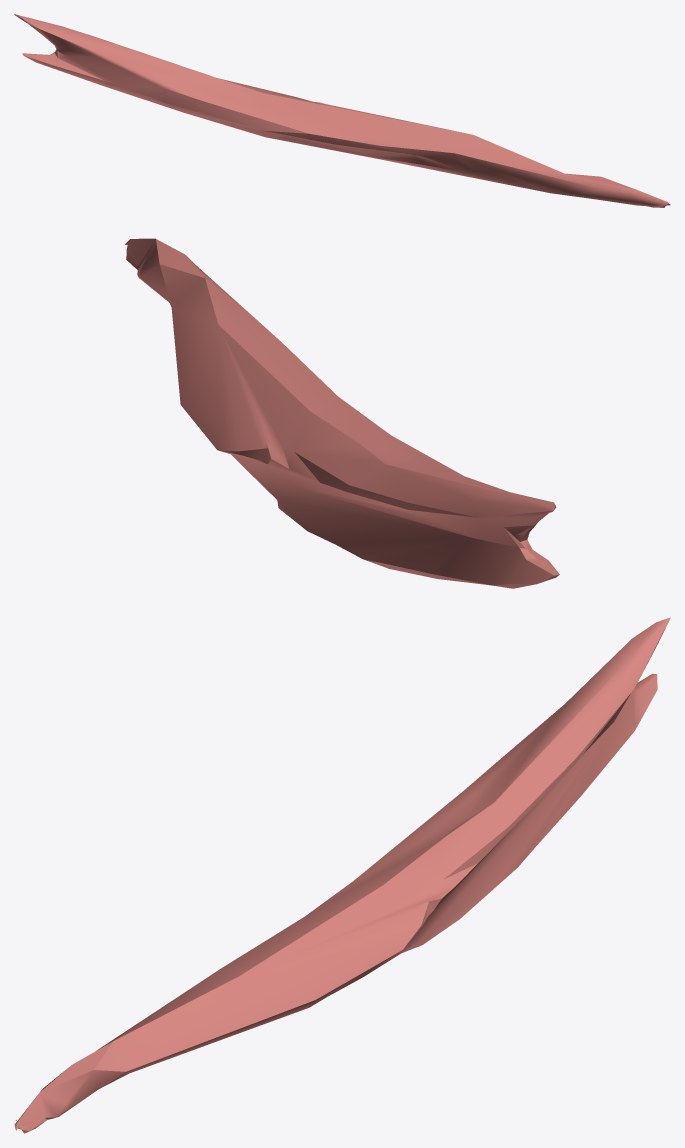
The model's file is fma37484_fj1389m.glb.
3 renders of one model, top to bottom at view 1: azimuth 30°, elevation 25°; view 2: azimuth 150°, elevation 25°; view 3: azimuth 270°, elevation 25°, orthographic. The views are drawn at different scales.
Parts seen in each view (by area): view 1: FMA37484_FJ1389M; view 2: FMA37484_FJ1389M; view 3: FMA37484_FJ1389M.
Boxes of the visible parts, <box> form: FMA37484_FJ1389M: <box>14,14,670,207</box>; FMA37484_FJ1389M: <box>125,236,559,588</box>; FMA37484_FJ1389M: <box>14,617,670,1133</box>.
Bounding box in the file's own units: 0.046 × 0.0141 × 0.0407.
